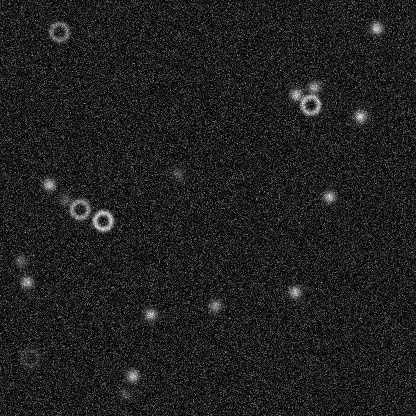Ring: (90, 208, 114, 232), (47, 19, 71, 43), (67, 197, 91, 221), (298, 92, 322, 116), (17, 345, 41, 369)
Spot: (321, 188, 337, 204), (352, 108, 368, 124), (18, 273, 34, 289), (286, 283, 302, 299), (368, 20, 384, 36), (206, 297, 222, 313), (142, 306, 158, 322), (287, 86, 303, 102), (57, 191, 73, 207), (169, 165, 185, 181), (124, 367, 140, 383), (12, 252, 28, 268), (305, 79, 321, 95), (40, 176, 56, 192), (116, 386, 132, 402)
